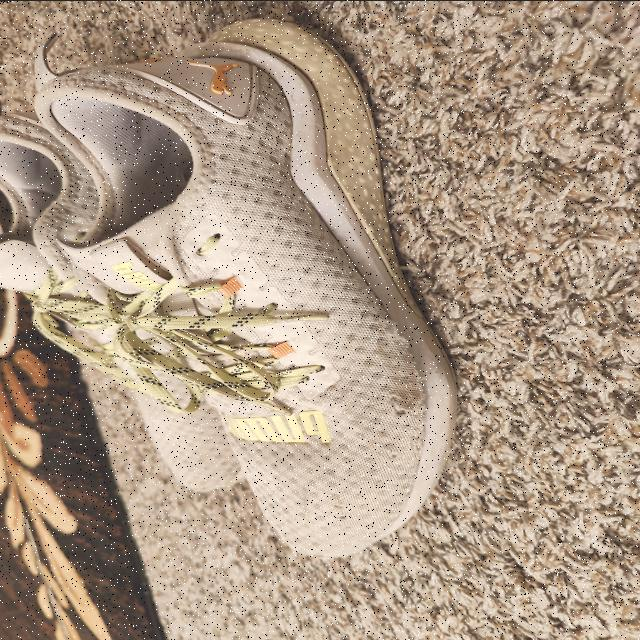white shoes: (0, 18, 451, 556)
